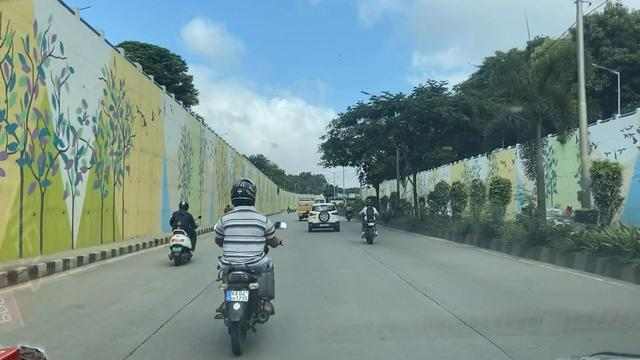LMV: (209, 179, 278, 342), (168, 199, 196, 261), (304, 199, 339, 235), (361, 199, 380, 245)
RoadDamages: (553, 336, 634, 360)
